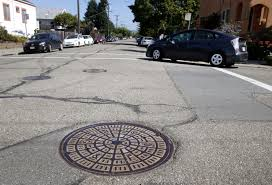Manhole-Closed: (59, 116, 183, 178)
car: (144, 27, 266, 75), (26, 29, 63, 55), (62, 31, 85, 50), (141, 35, 158, 47), (81, 32, 95, 46)
